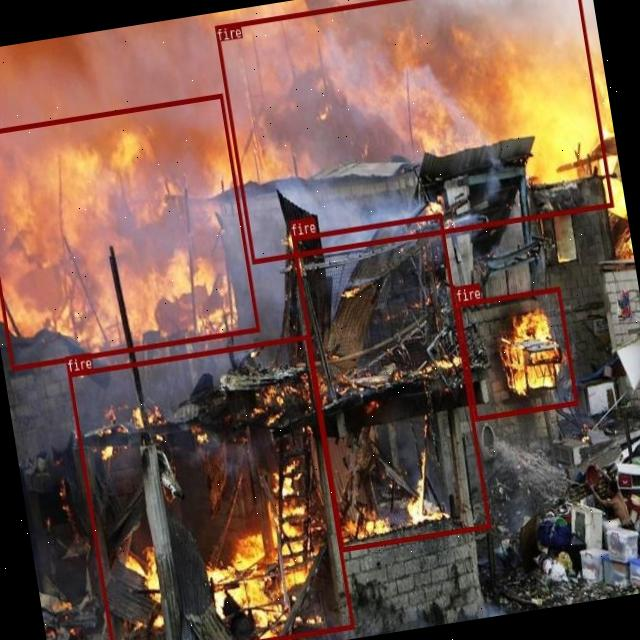fire: (214, 0, 613, 262), (68, 334, 354, 640), (0, 93, 259, 369), (292, 213, 490, 552), (456, 286, 577, 421)
